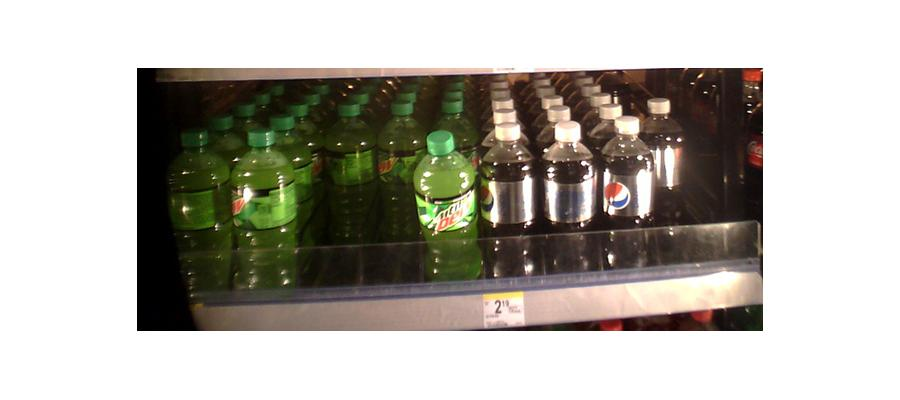bottle: (233, 127, 299, 292), (168, 133, 232, 301), (483, 109, 539, 282), (324, 93, 376, 276), (377, 83, 424, 282), (421, 128, 478, 285), (542, 118, 599, 274), (602, 113, 653, 263)
